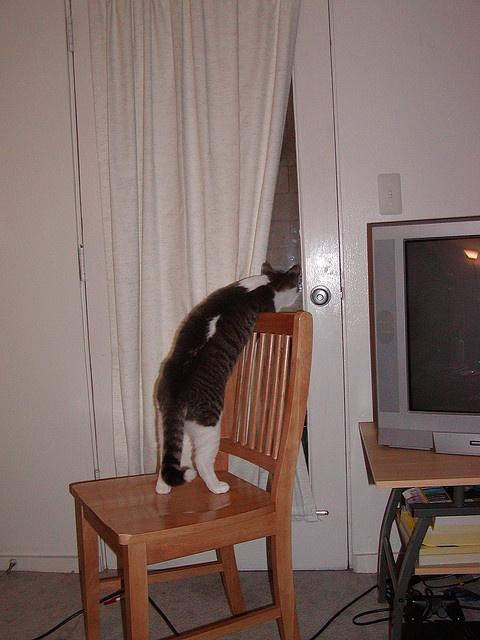AIO PC-Monitor-TV: (369, 213, 479, 454)
Kursi: (67, 308, 314, 639)
